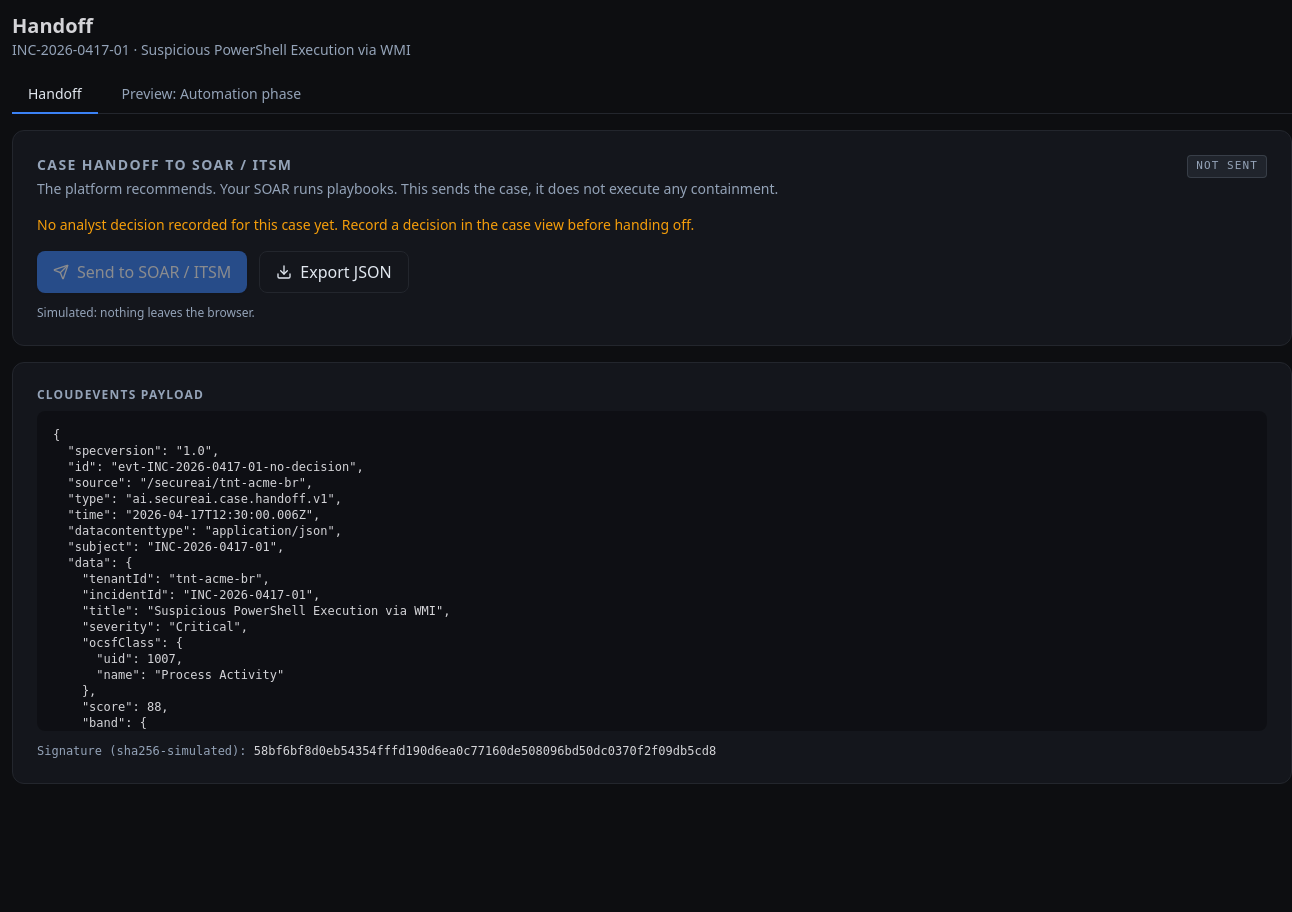
Test: automation preview › refuses a high score without an approval
Click the tab "Preview: Automation phase". click: (211, 95)
box: x1=106 y1=76 x2=317 y2=114
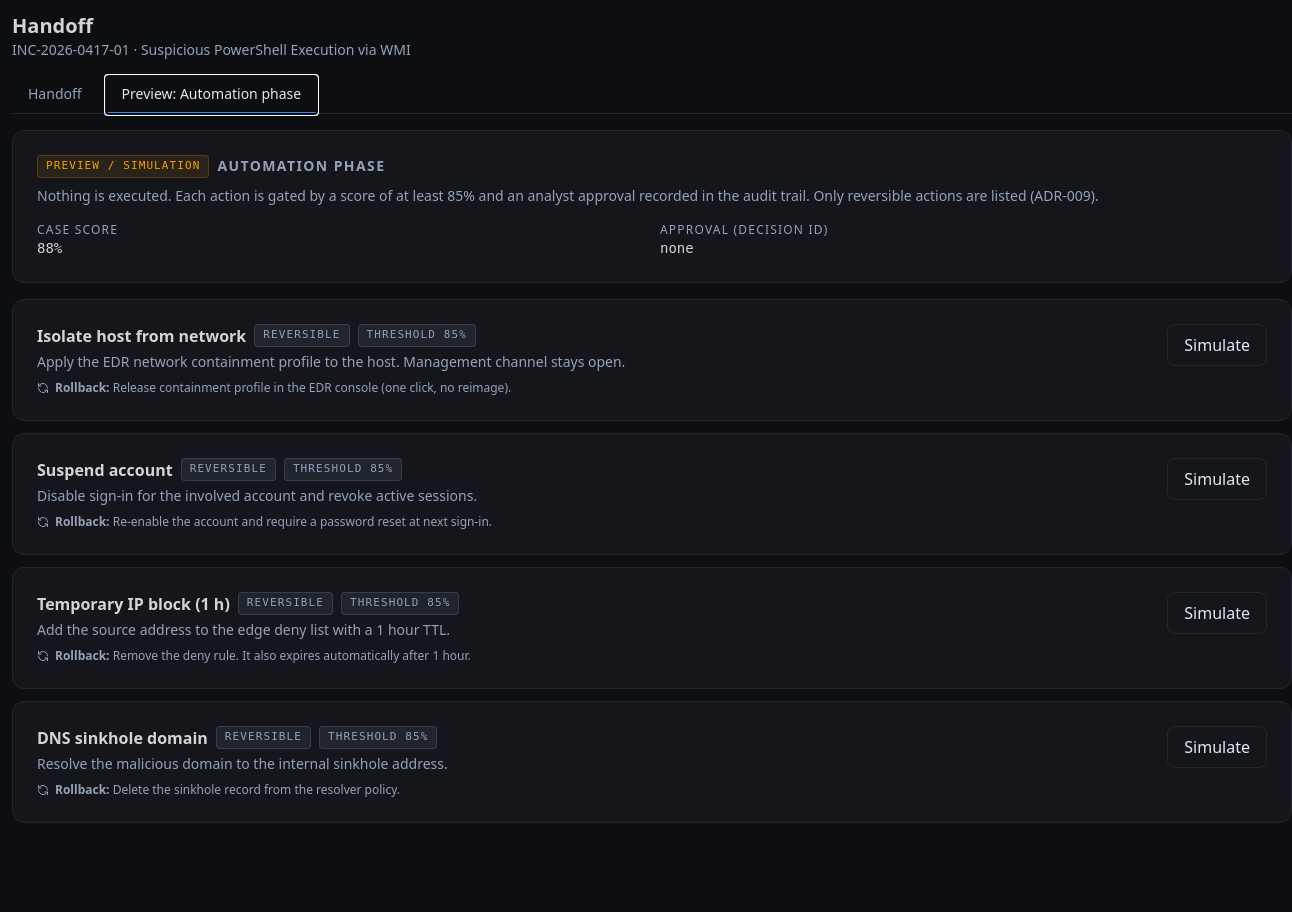
Click the button with aria-label "Simulate Isolate host from network". click: (1217, 344)
box: x1=1167 y1=324 x2=1267 y2=366
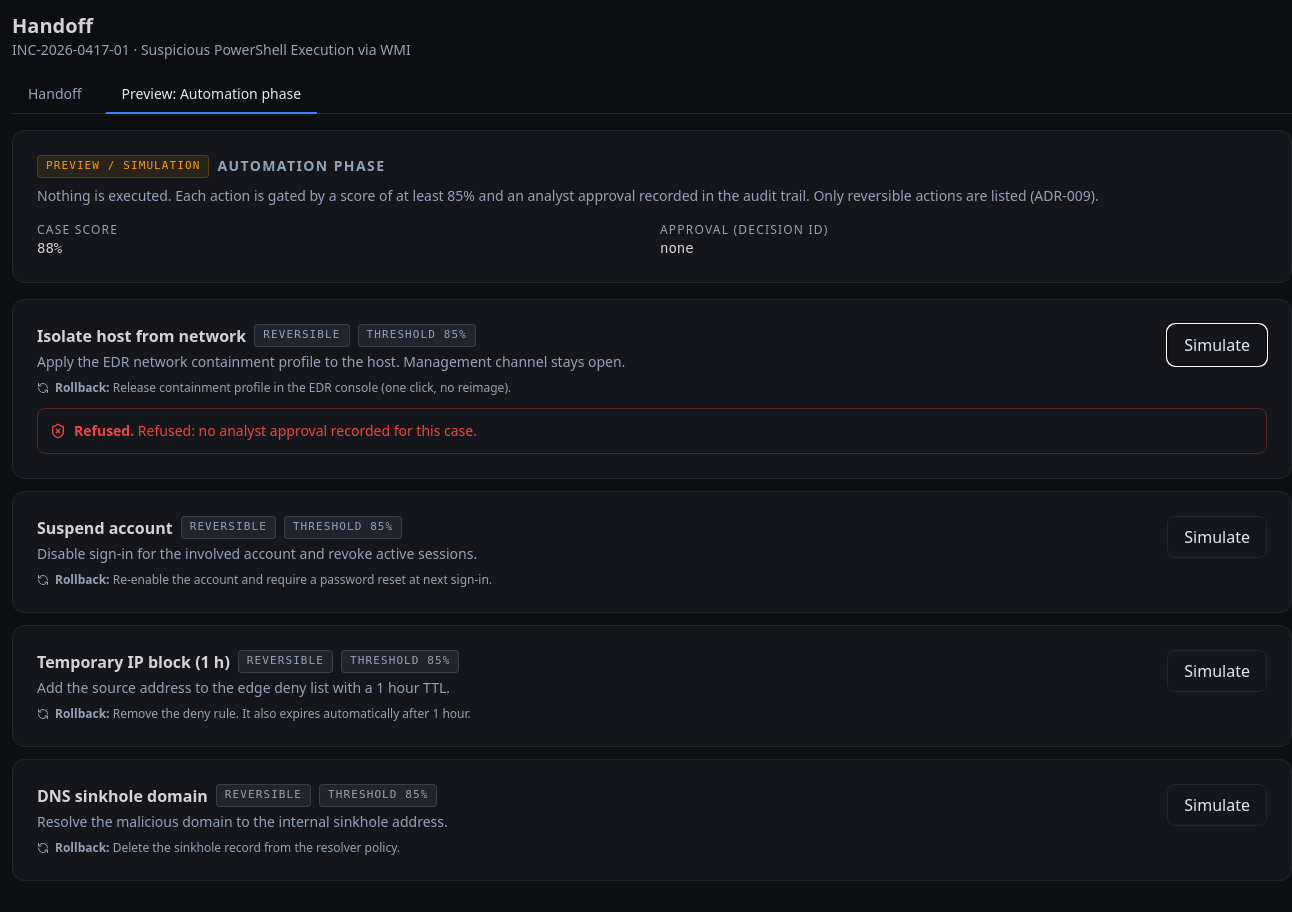
Expected: the message shows "no analyst approval", x1=138 y1=420 x2=477 y2=440
